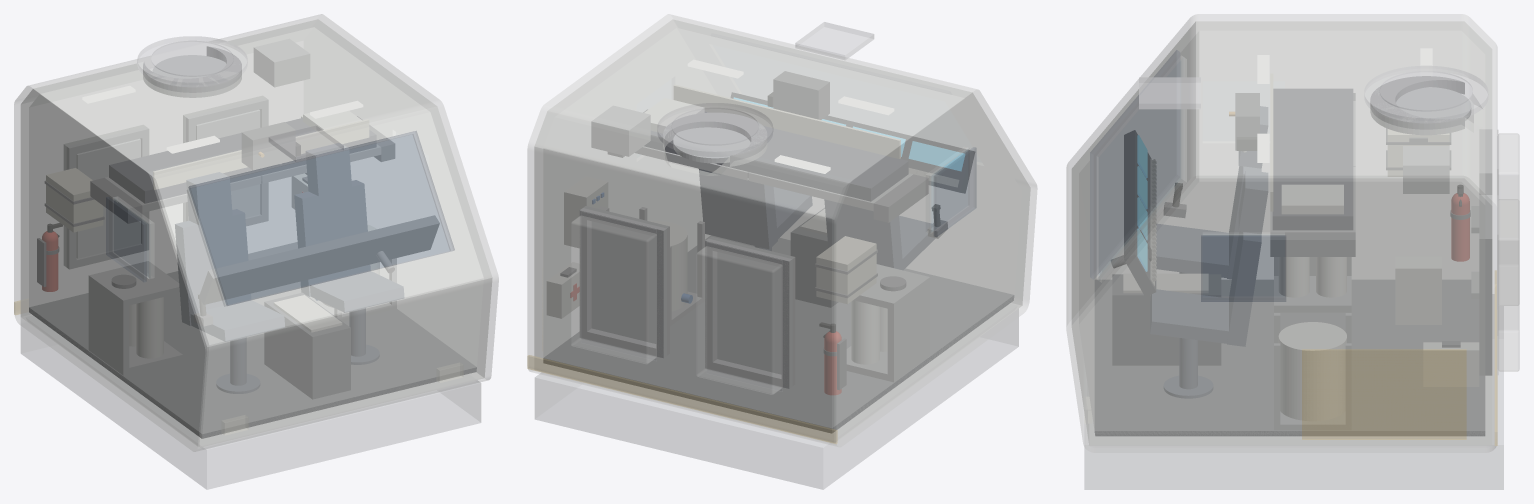
File: rover24_pressurised_cab_m_combined.glb
3 views of the same model, side by side, from view 1: azimuth 30°, elevation 25°; view 2: azimuth 150°, elevation 25°; view 3: azimuth 270°, elevation 25° (orthographic). The views are drawn at different scales.
Parts seen in each view (by area): view 1: ext_cabin, pressure_vessel, ext_windscreen, deck_floor, ext_chassis_skirt, seat_2, seat_1, dash_panel, eq08_1_frame, centre_console, ext_hatch_top, eq44_1_mattress (+21 smaller); view 2: ext_cabin, pressure_vessel, ext_hatch_suitports, ext_chassis_skirt, deck_floor, ext_suitport_rings, hatch_door_2, hatch_door_1, eq44_1_mattress, seat_1, eq08_1_frame, hatch_tunnel_1 (+25 smaller); view 3: ext_cabin, pressure_vessel, deck_floor, ext_chassis_skirt, ext_gold_trim, ext_windscreen, eq44_1_mattress, seat_1, eq11_1_tank, ext_hatch_top, ext_side_windows, ext_hatch_suitports (+26 smaller).
Part boxes in pixels (box(x1,y1,x2,y2)): ext_cabin: box(14, 14, 498, 451); pressure_vessel: box(21, 19, 492, 447); ext_windscreen: box(188, 131, 454, 305); deck_floor: box(29, 242, 476, 438); ext_chassis_skirt: box(21, 318, 480, 489); seat_2: box(175, 172, 284, 393); seat_1: box(294, 143, 404, 364); dash_panel: box(199, 215, 439, 304); eq08_1_frame: box(89, 261, 182, 375); centre_console: box(264, 293, 350, 399); ext_hatch_top: box(137, 36, 247, 87); eq44_1_mattress: box(109, 118, 376, 203); ext_cabin: box(527, 14, 1037, 446); pressure_vessel: box(534, 19, 1030, 442); ext_hatch_suitports: box(571, 216, 782, 394); ext_chassis_skirt: box(535, 309, 1018, 489); deck_floor: box(543, 235, 1013, 433); ext_suitport_rings: box(581, 211, 782, 391); hatch_door_2: box(717, 252, 781, 374); hatch_door_1: box(592, 221, 655, 343); eq44_1_mattress: box(645, 112, 908, 201); seat_1: box(699, 169, 812, 250); eq08_1_frame: box(847, 264, 929, 381); hatch_tunnel_1: box(579, 206, 669, 358); ext_cabin: box(1066, 14, 1497, 452); pressure_vessel: box(1072, 21, 1491, 445); deck_floor: box(1094, 280, 1484, 436); ext_chassis_skirt: box(1084, 294, 1503, 489); ext_gold_trim: box(1302, 270, 1497, 445); ext_windscreen: box(1090, 50, 1179, 279); eq44_1_mattress: box(1273, 89, 1352, 229); seat_1: box(1150, 170, 1267, 398); eq11_1_tank: box(1279, 322, 1346, 420); ext_hatch_top: box(1364, 66, 1487, 123); ext_side_windows: box(1201, 235, 1285, 301); ext_hatch_suitports: box(1498, 133, 1519, 371).
Bounding box in the file's own units: 2.49 × 2.3 × 2.92.
